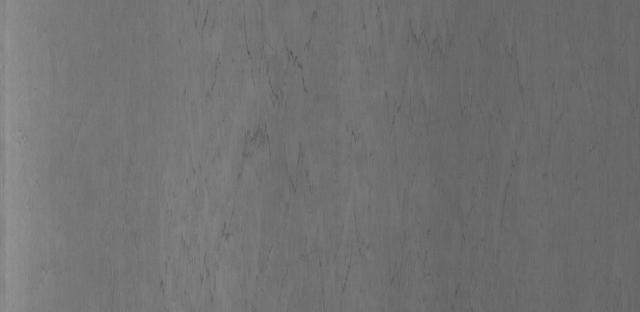silk_spot: (158, 17, 395, 288)
